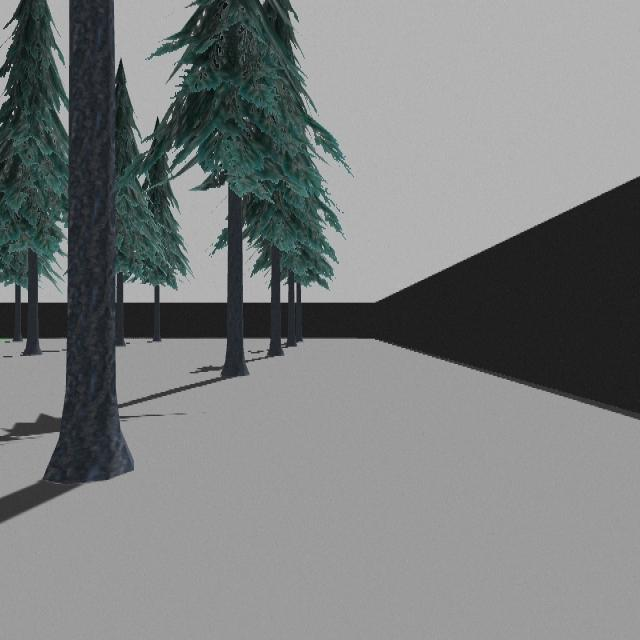tree: (137, 0, 351, 377), (45, 0, 134, 485)
